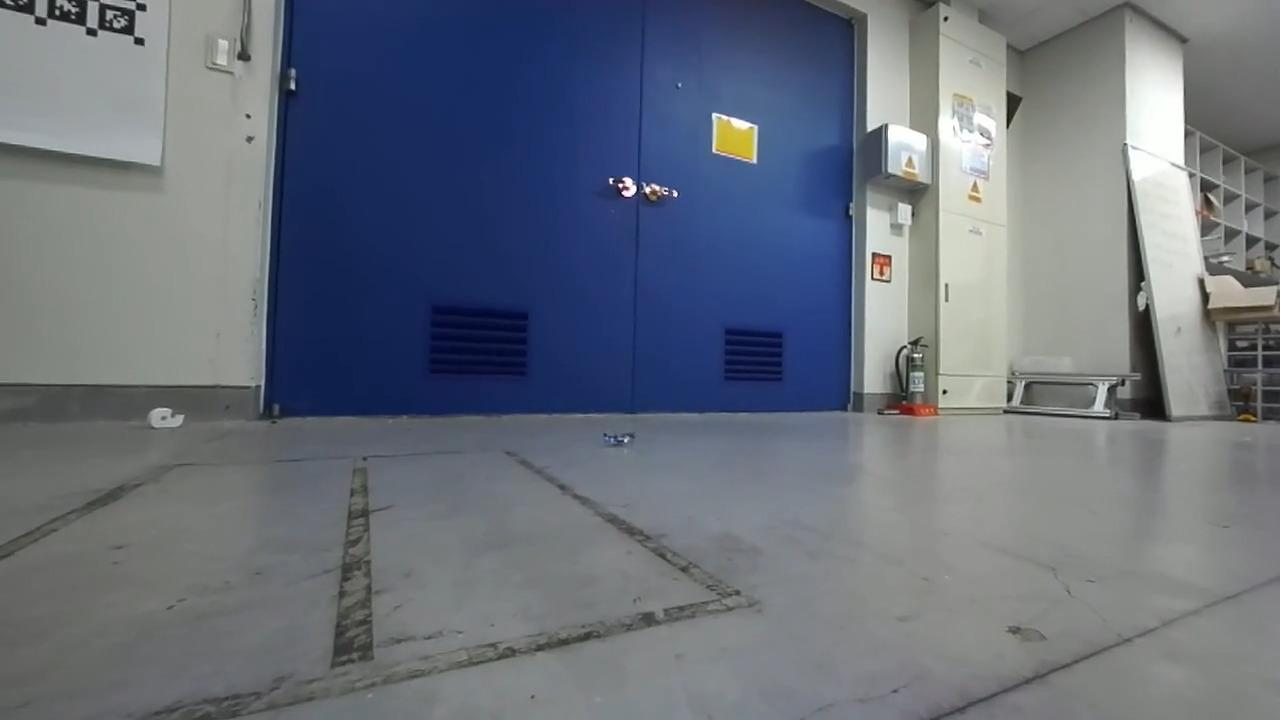crazyflie: (591, 426, 645, 453)
